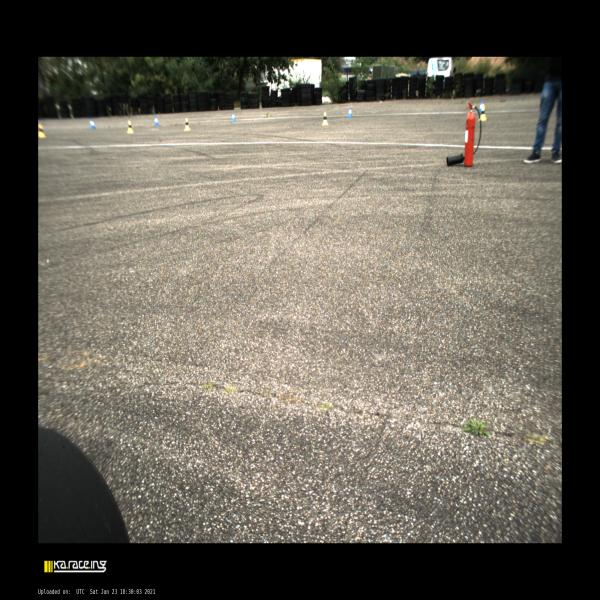blue_cone: (478, 101, 484, 115), (90, 119, 96, 130), (231, 112, 236, 123), (348, 107, 353, 118), (154, 116, 159, 126)
yellow_cone: (478, 105, 487, 121), (39, 122, 46, 139), (126, 120, 134, 134), (183, 118, 191, 132), (322, 112, 328, 126)
